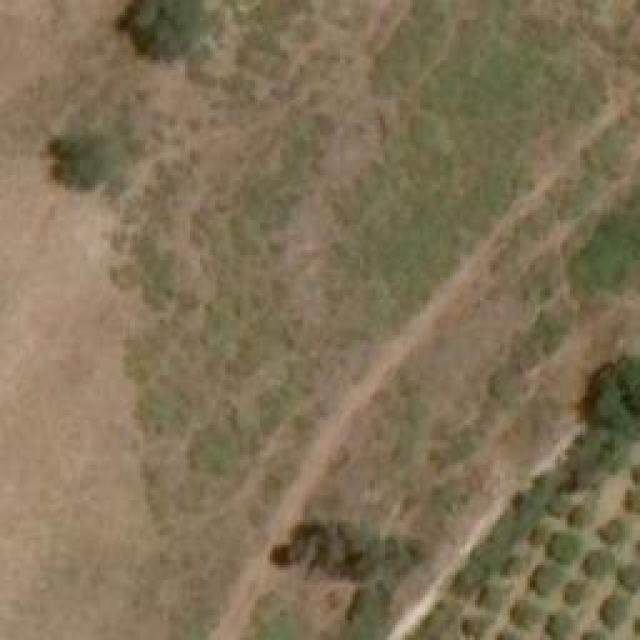Tree: (120, 0, 198, 60), (580, 355, 640, 433), (45, 130, 113, 193), (483, 365, 519, 401), (580, 550, 618, 573), (510, 600, 540, 628), (543, 612, 573, 640), (530, 567, 560, 595), (552, 532, 580, 560), (475, 588, 505, 613), (603, 598, 628, 628), (563, 583, 588, 606), (600, 520, 625, 543), (460, 618, 488, 638), (617, 567, 640, 590), (500, 555, 523, 578), (568, 503, 588, 528), (528, 525, 548, 548), (622, 490, 640, 513)
